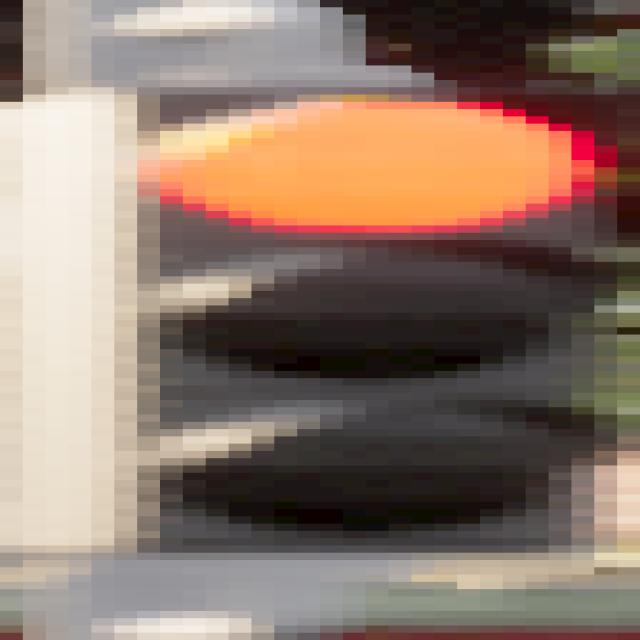red_light: (93, 81, 640, 576)
